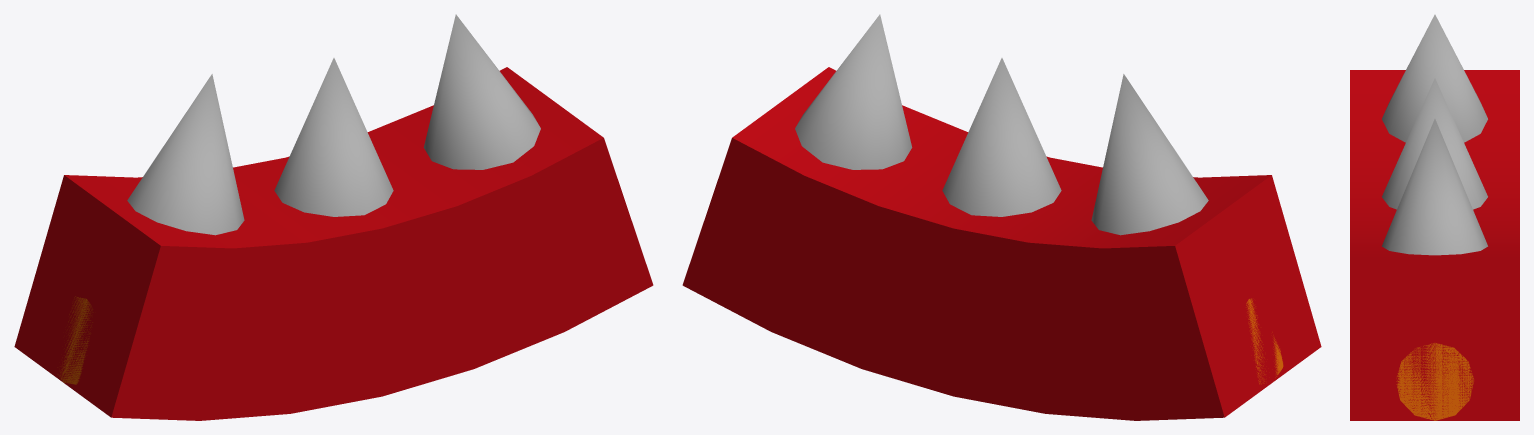
The picture shows the model from 3 angles, left to right: view 1: azimuth 30°, elevation 25°; view 2: azimuth 150°, elevation 25°; view 3: azimuth 270°, elevation 25°; orthographic projection. The views are drawn at different scales.
Visible parts, largest first — view 1: Torus.002, Torus.001; view 2: Torus.002, Torus.001; view 3: Torus.002, Torus.001.
Part boxes in pixels (x1,y1,x2,y2): Torus.002: (14,14,653,420); Torus.001: (57,296,93,384); Torus.002: (682,14,1321,420); Torus.001: (1246,298,1283,384); Torus.002: (1350,14,1519,420); Torus.001: (1396,343,1473,420).
Size of the model in its own units: 0.6467 by 0.3617 by 0.2.
